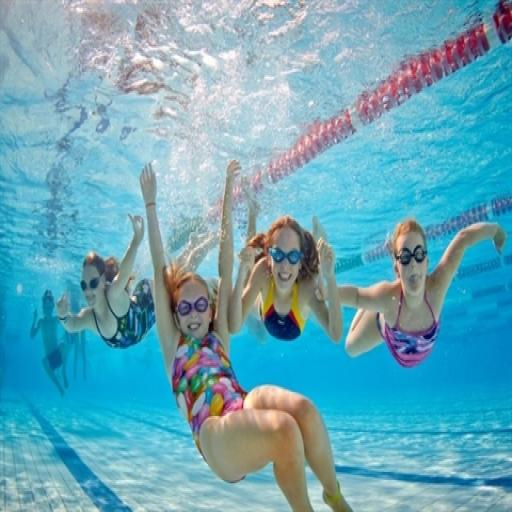swimming: (136, 157, 358, 510), (323, 216, 508, 371), (53, 211, 157, 352), (26, 286, 74, 400)
